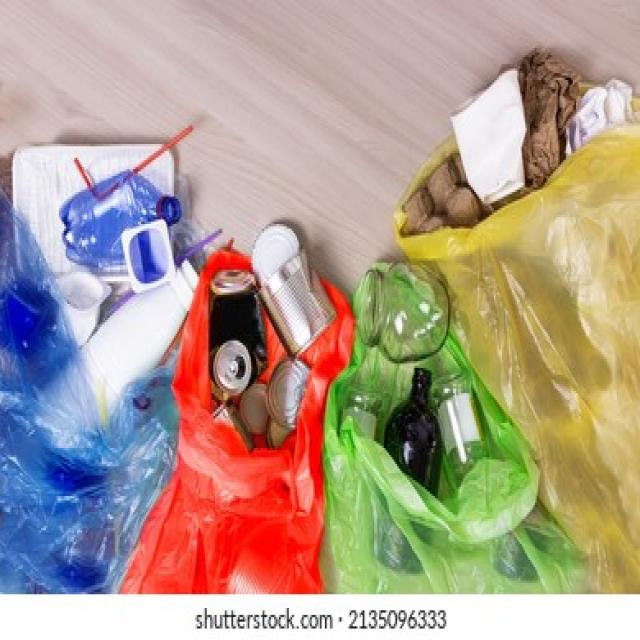glass: (381, 368, 443, 569)
metal: (215, 236, 299, 418)
paper: (468, 80, 632, 203)
plastic: (52, 279, 202, 414), (51, 192, 175, 265)
